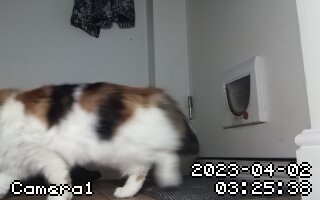clara: (1, 81, 202, 200)
